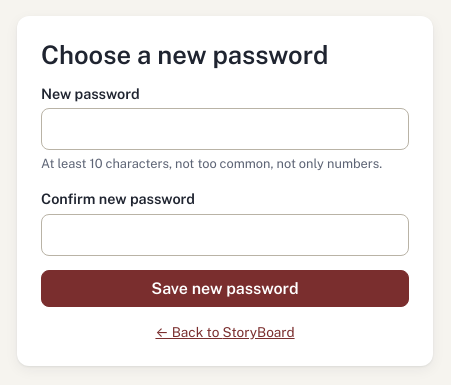
Test: ResetPasswordPage › reads uid and token from the emailed link and sends them with the new password
This screenshot has width=451, height=385.
Type "Correct-horse-battery-9" into the password field labelled "New password" at (225, 129), box [41,108,409,150]
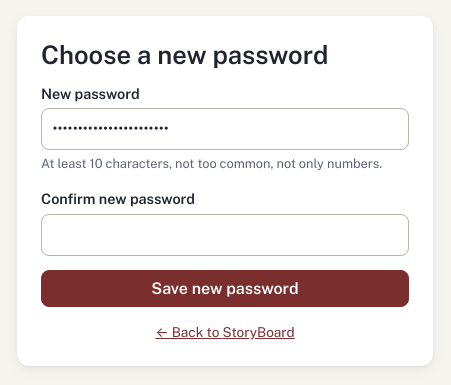
Type "Correct-horse-battery-9" into the password field labelled "Confirm new password" at (225, 235), box [41,214,409,256]
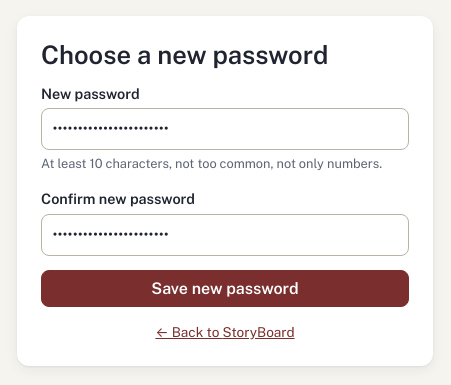
Click the button "Save new password" at (225, 289), box [41,270,409,307]
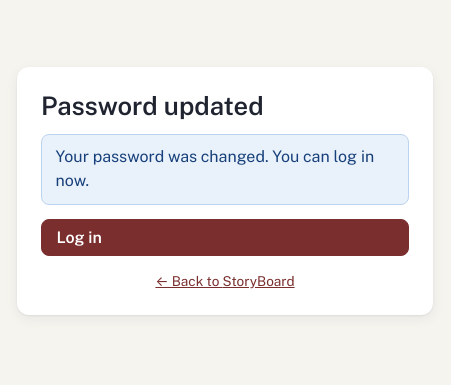
Expected: the heading "Password updated" is shown, [41,91,264,121]
